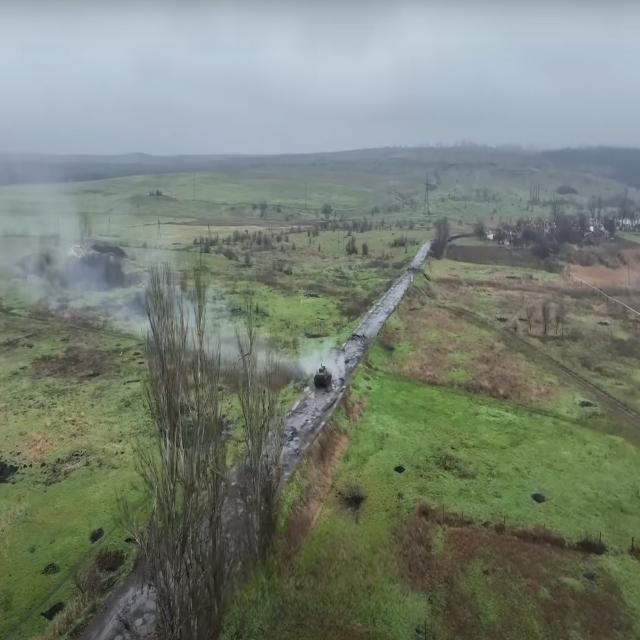AIFV: (314, 364, 334, 394)
